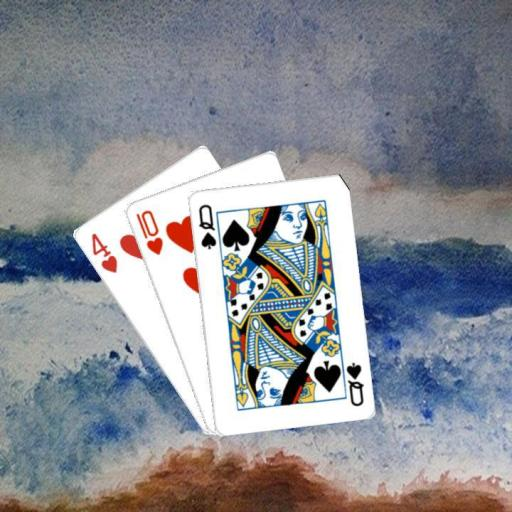10H: (133, 206, 165, 257)
4H: (87, 230, 119, 275)
QS: (195, 201, 218, 251), (343, 359, 365, 408)
